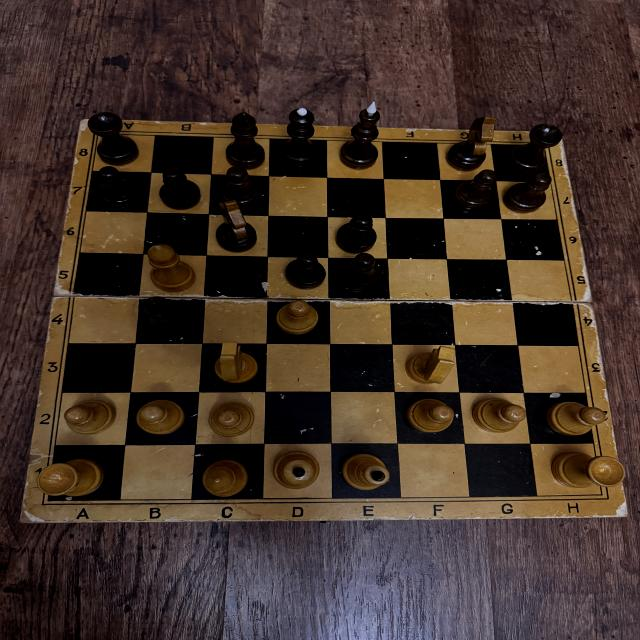black-bishop: (225, 110, 268, 168), (138, 295, 194, 337)
black-king: (341, 101, 382, 170)
black-knight: (444, 115, 496, 170), (212, 201, 259, 252)
black-pawn: (92, 165, 142, 209), (154, 168, 202, 209), (331, 214, 381, 253), (336, 250, 383, 291), (504, 173, 552, 212), (219, 166, 262, 209), (454, 170, 498, 208), (284, 253, 326, 289)
black-queen: (279, 104, 320, 168)
black-rook: (85, 113, 142, 164), (506, 122, 564, 172)
white-bishop: (147, 242, 195, 294), (202, 459, 246, 497)
white-king: (340, 452, 390, 493)
white-knight: (402, 346, 458, 386), (213, 342, 261, 385)
white-pawn: (548, 396, 604, 438), (472, 396, 527, 434), (134, 399, 185, 436), (62, 401, 117, 435), (405, 396, 454, 434), (206, 402, 256, 438), (272, 301, 320, 335)
white-queen: (270, 451, 320, 494)
white-rook: (552, 451, 626, 490), (36, 459, 104, 498)
